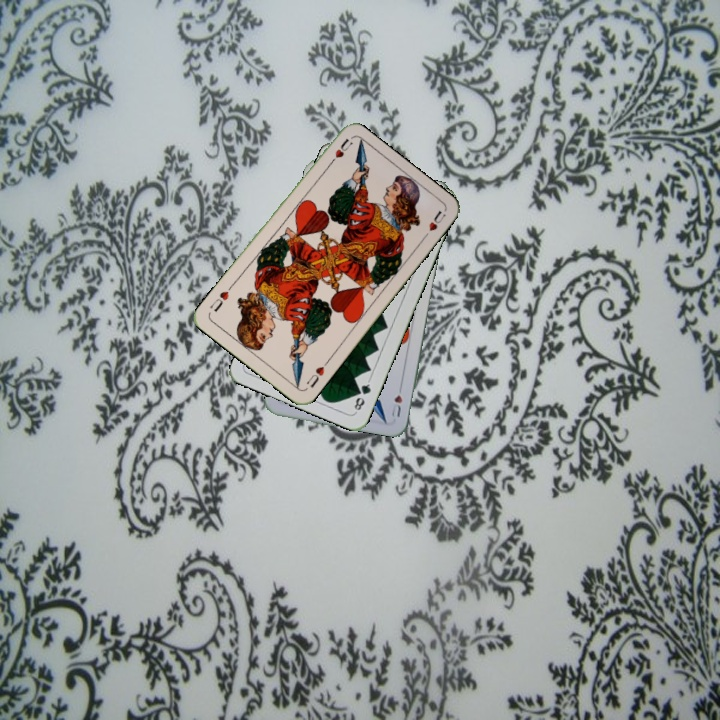G8: (350, 376, 374, 413)
HU: (324, 134, 355, 169), (302, 357, 331, 391), (387, 381, 405, 420)
